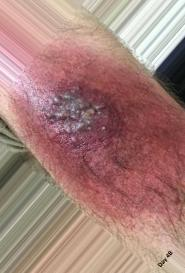Spider: (20, 30, 174, 230)
